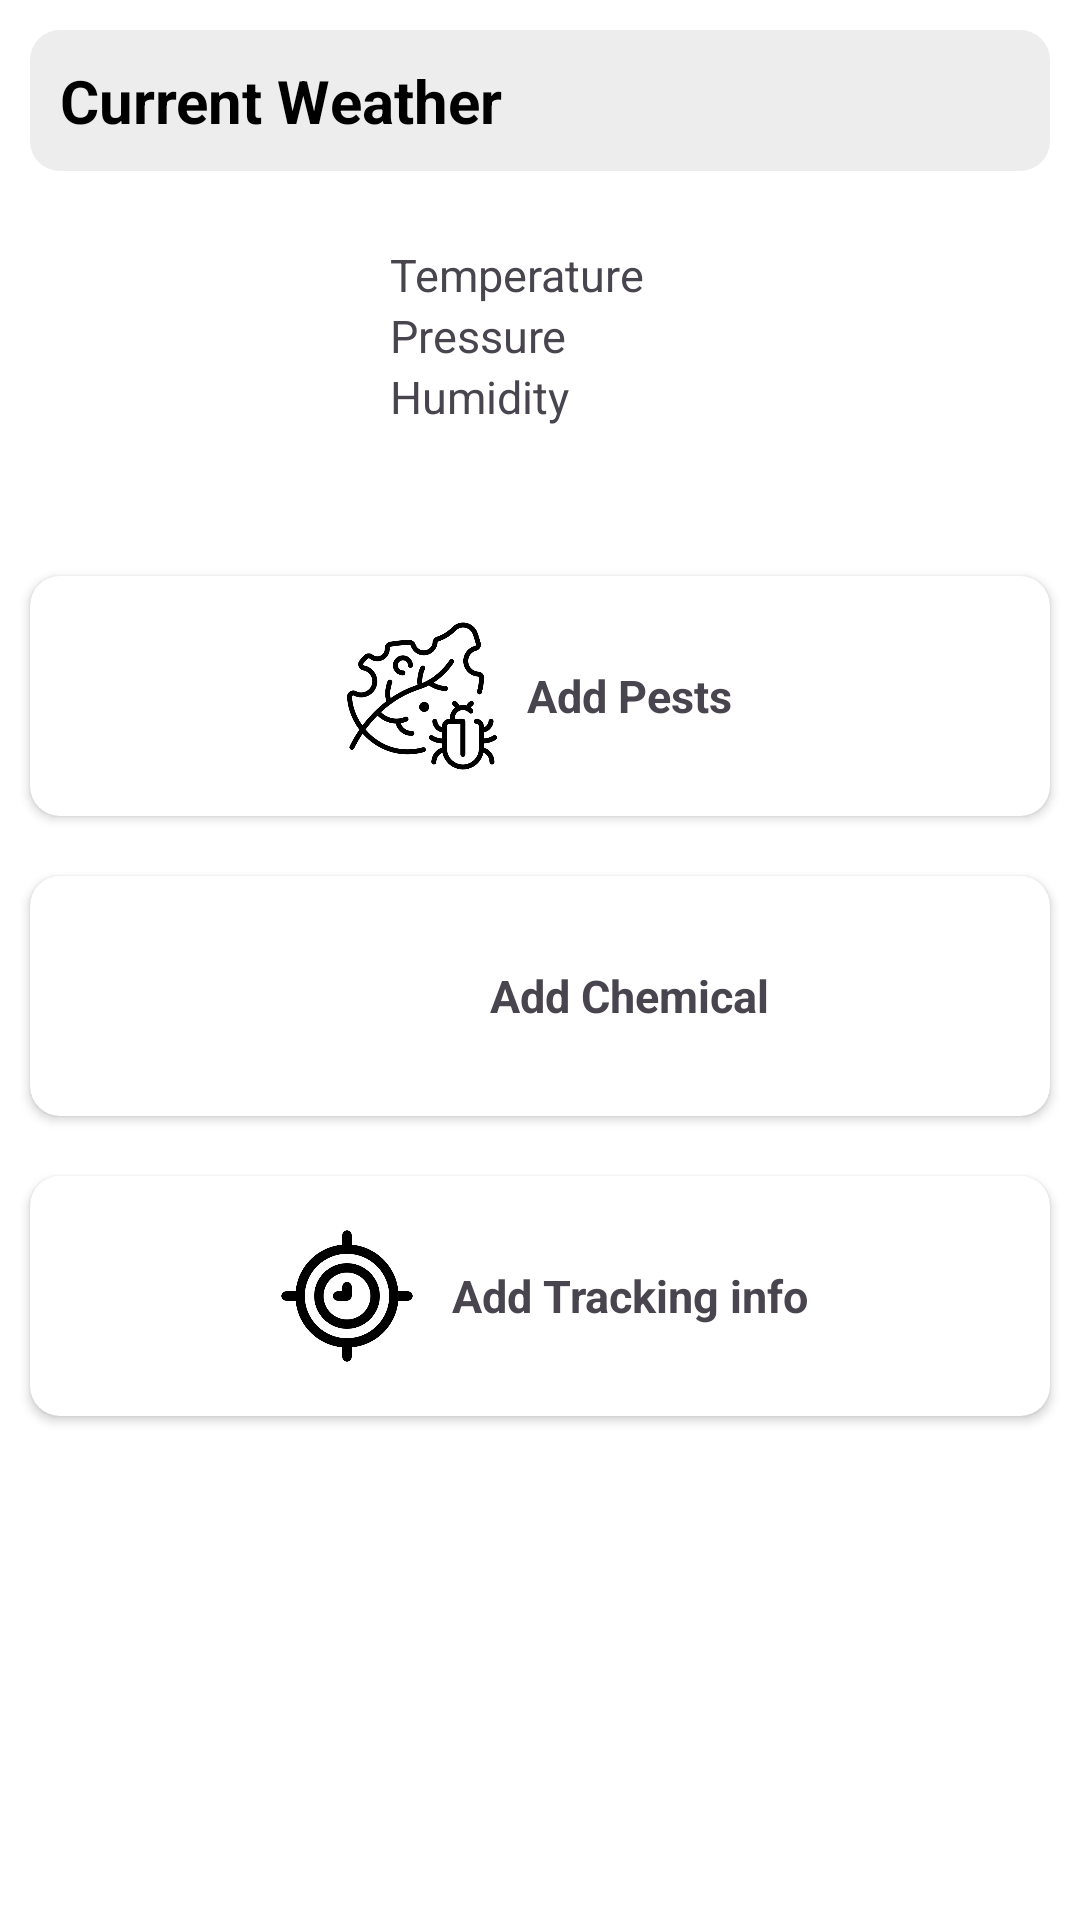

Screen size 1080 × 1920. Icon name, then its box in pixels as (x1, y1, x2, y2):
tracker: (281, 1230, 413, 1362)
